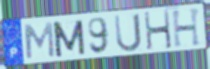9: (87, 17, 111, 55)
H: (170, 6, 202, 49), (143, 9, 173, 52)
M: (51, 18, 87, 59), (23, 21, 56, 60)
U: (113, 12, 143, 54)
